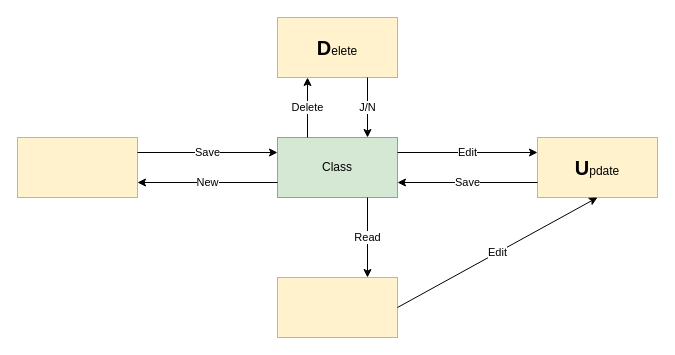
This 675x355 diagram has some shape labels left out. Each missing label, with the box of its shape:
C reate: (16, 136, 138, 198)
R ead: (276, 276, 398, 338)
